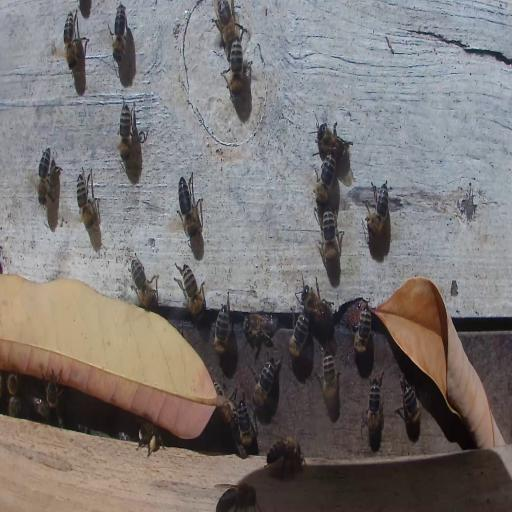nonpollenbee: (300, 281, 335, 337), (315, 119, 350, 172), (265, 434, 305, 480), (129, 254, 159, 310), (176, 264, 206, 319), (177, 170, 200, 241), (213, 0, 244, 52), (76, 166, 100, 232), (364, 179, 391, 236), (362, 372, 384, 440), (318, 209, 344, 264), (215, 478, 257, 512), (234, 396, 256, 458), (399, 378, 422, 432), (227, 38, 246, 99), (243, 311, 277, 345), (252, 360, 276, 407), (314, 154, 336, 205), (63, 11, 80, 72), (322, 349, 339, 409), (212, 299, 230, 355), (352, 304, 372, 353), (36, 146, 52, 207), (110, 2, 126, 62), (289, 310, 309, 358), (118, 100, 132, 159), (46, 374, 60, 410), (30, 396, 49, 420), (7, 371, 19, 399), (8, 394, 22, 416)
pollenbee: (136, 420, 165, 455)
